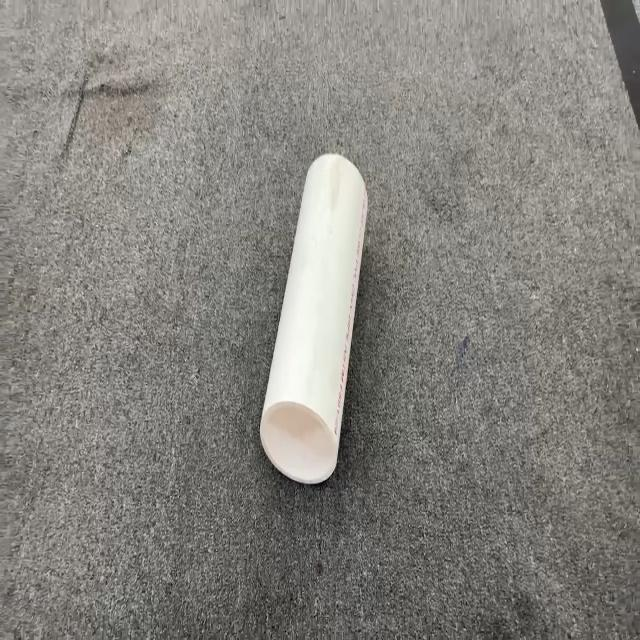coral: (258, 151, 368, 485)
